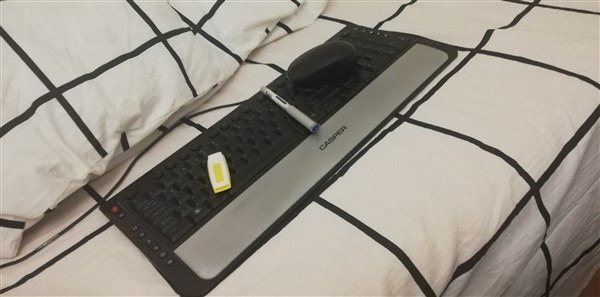flash disk: (205, 150, 237, 196)
klavye: (95, 20, 464, 297)
mouse: (286, 38, 361, 90)
pilot kalem: (258, 85, 326, 136)
